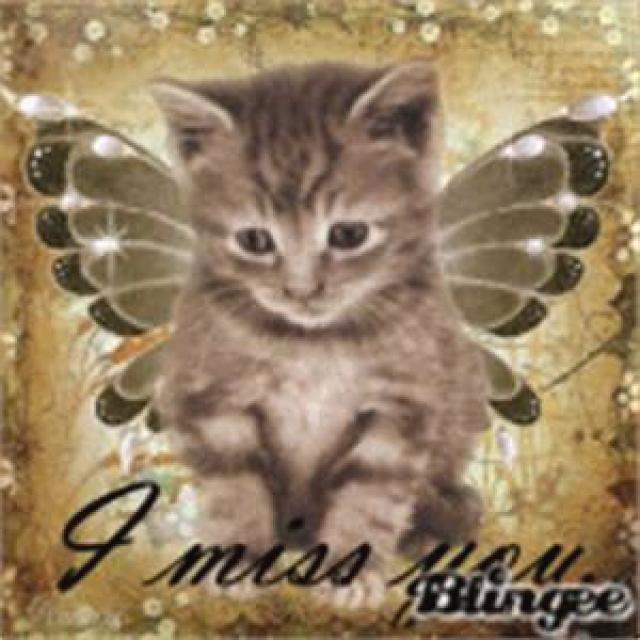KEDI: (146, 65, 492, 607)
